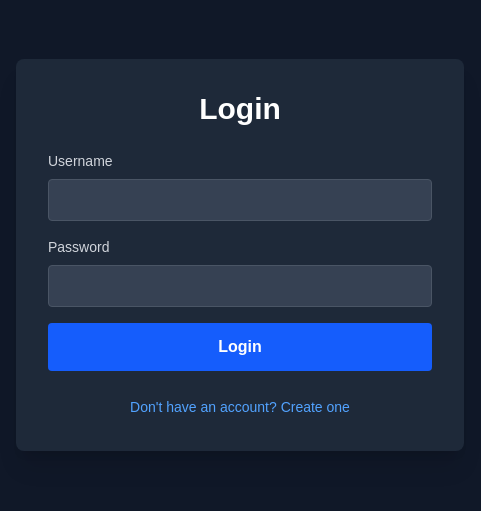
Test: Login Page › Mode Switching › should clear error when switching modes
Step 1. Type "test" into the field labelled "Username" → [240, 200], box [48,179,432,221]
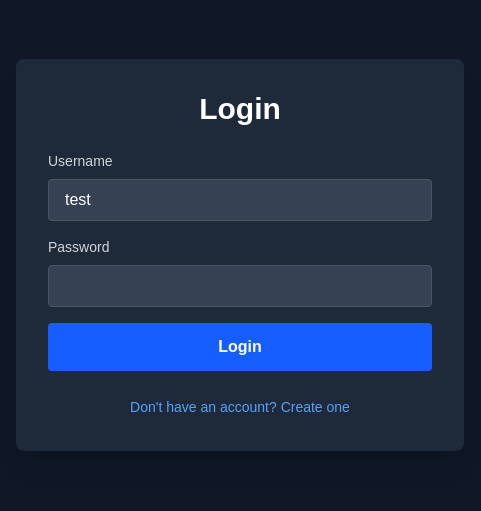
Step 2. Type "test" into the password field labelled "Password" → [240, 286], box [48,265,432,307]
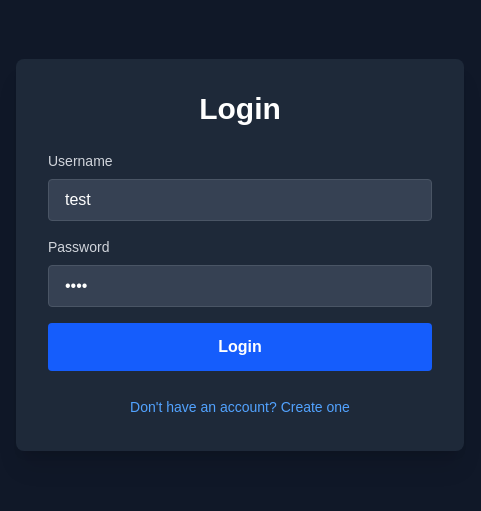
Step 3. Click the button "Login" → [240, 347], box [48,323,432,371]
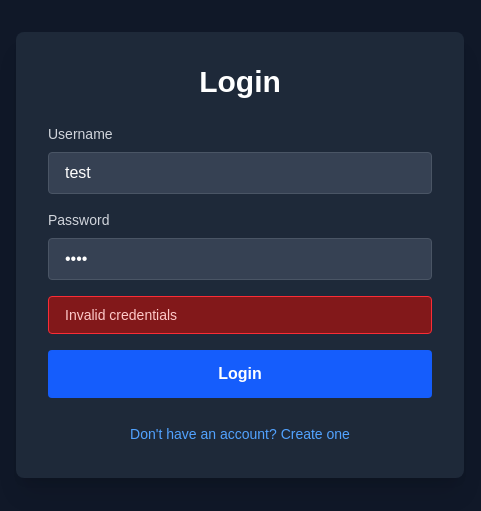
Result: the text "Invalid credentials" is shown at [48,296,432,334]
Step 4. Click the button "Don't have an account? Create one" → [240, 434], box [130,424,350,444]
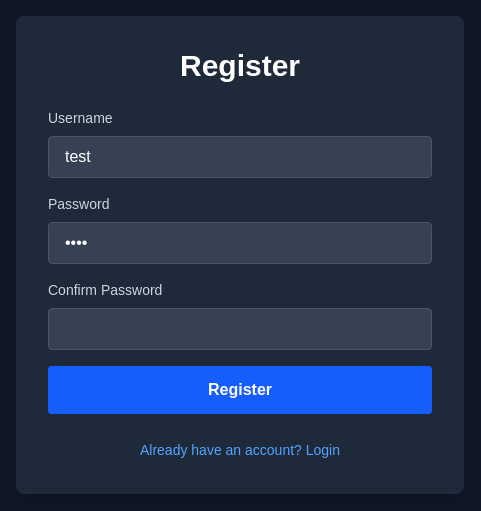
Result: the text "Invalid" is gone
